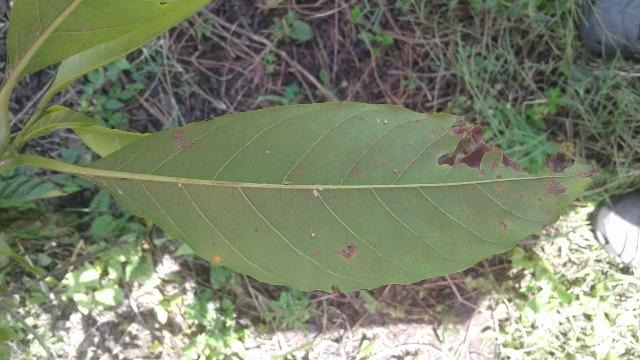rust_level_1: (67, 92, 616, 296)
